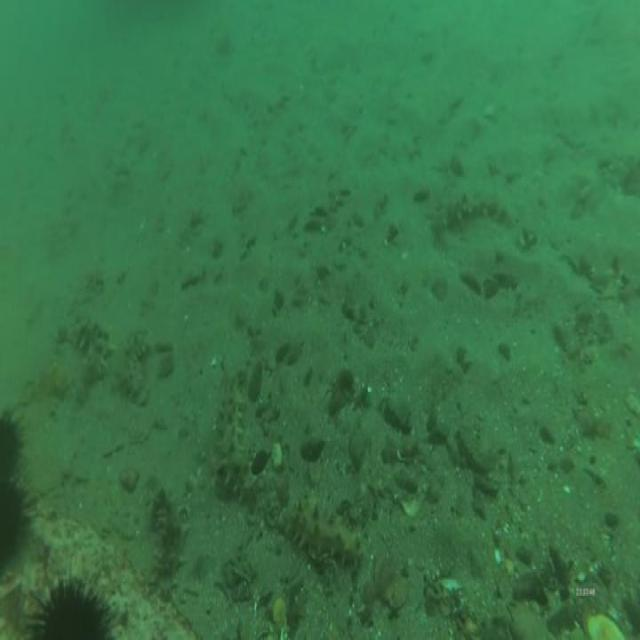echinus: (19, 559, 127, 640), (0, 474, 37, 573), (1, 406, 27, 482)
holothurian: (273, 484, 368, 572), (208, 367, 257, 493), (436, 187, 519, 240), (61, 313, 115, 392), (118, 325, 151, 392)
